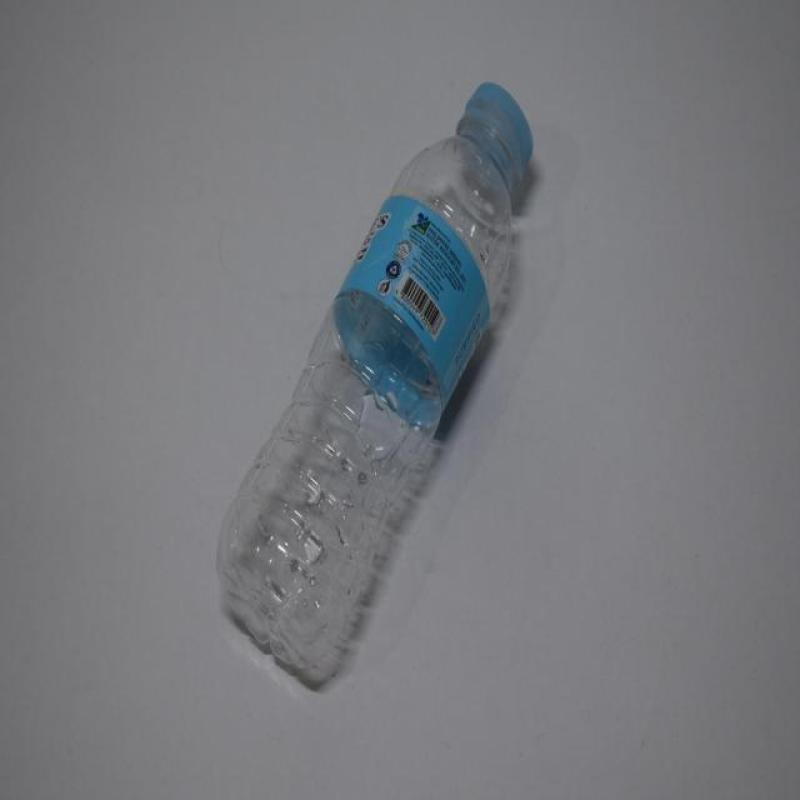botella: (215, 80, 535, 686)
